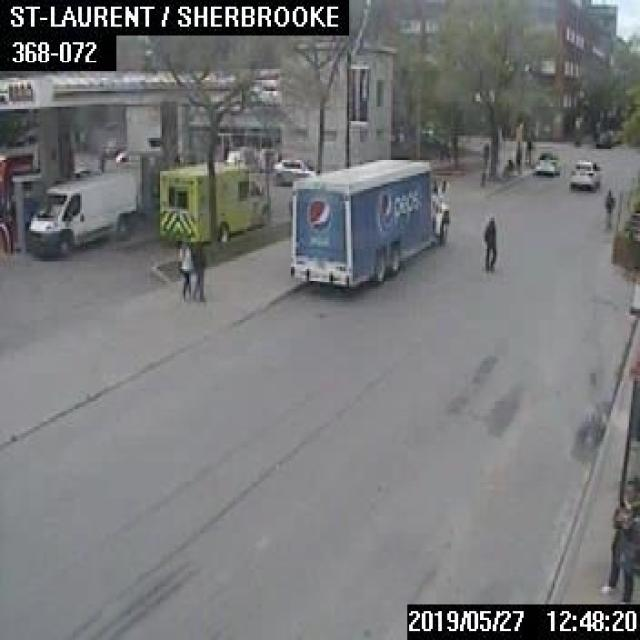pedestrian: (602, 473, 638, 600), (174, 236, 192, 300), (482, 211, 496, 269), (192, 239, 205, 301), (602, 187, 614, 231), (499, 157, 512, 177), (524, 136, 532, 166)
vehicle: (290, 158, 448, 289), (26, 170, 136, 254), (157, 159, 268, 241), (271, 156, 317, 184), (568, 158, 600, 188), (532, 151, 560, 173), (595, 131, 611, 146)
